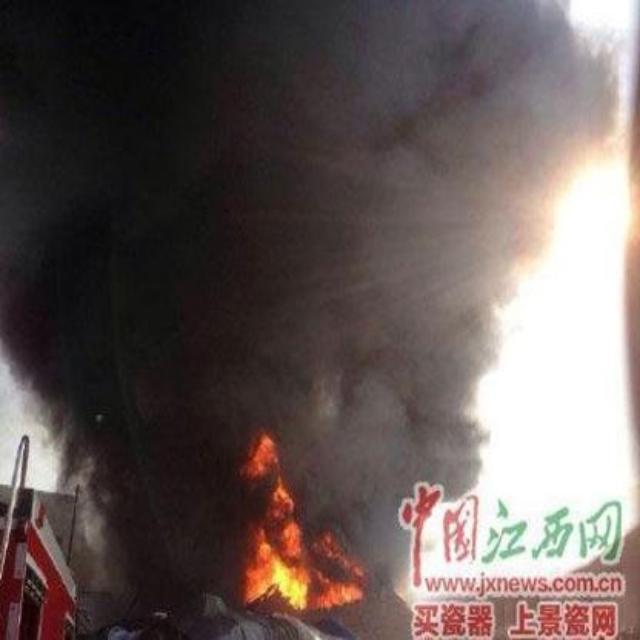Fire: (246, 434, 370, 616)
Smoke: (2, 12, 624, 404), (68, 416, 240, 618), (389, 412, 486, 508)
